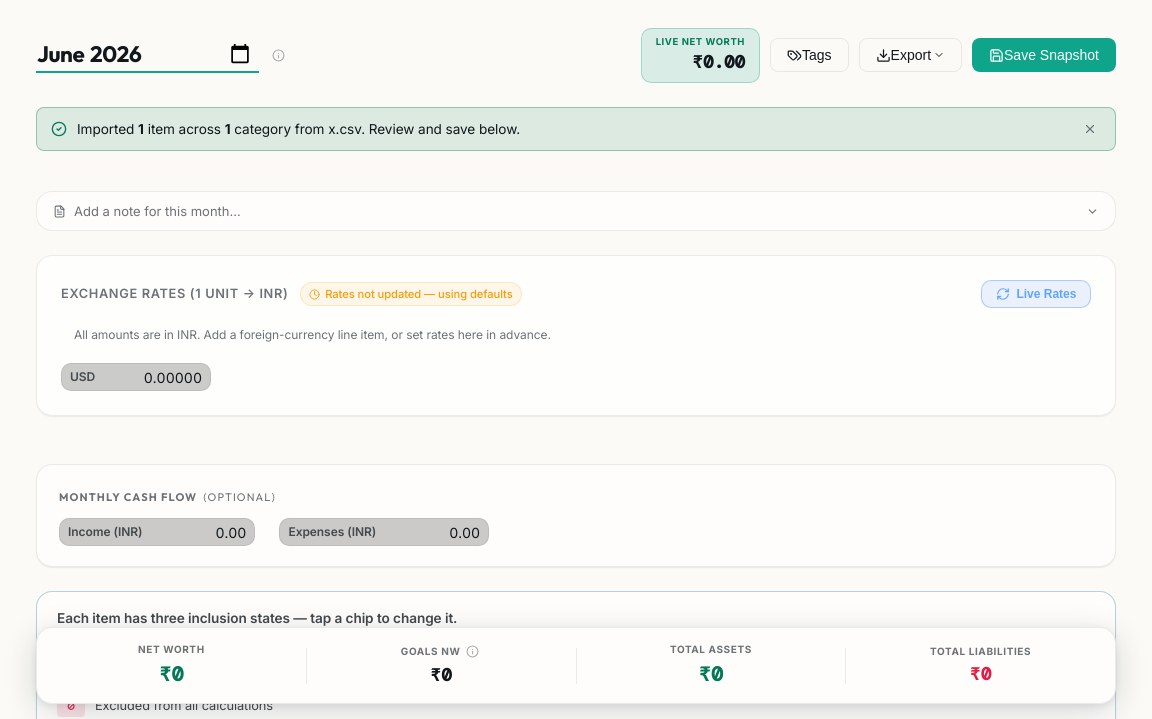
SnapshotEditor — import summary banner › dismisses the banner
Click the button named "Dismiss import summary": (1090, 129) [1079,118,1101,140]
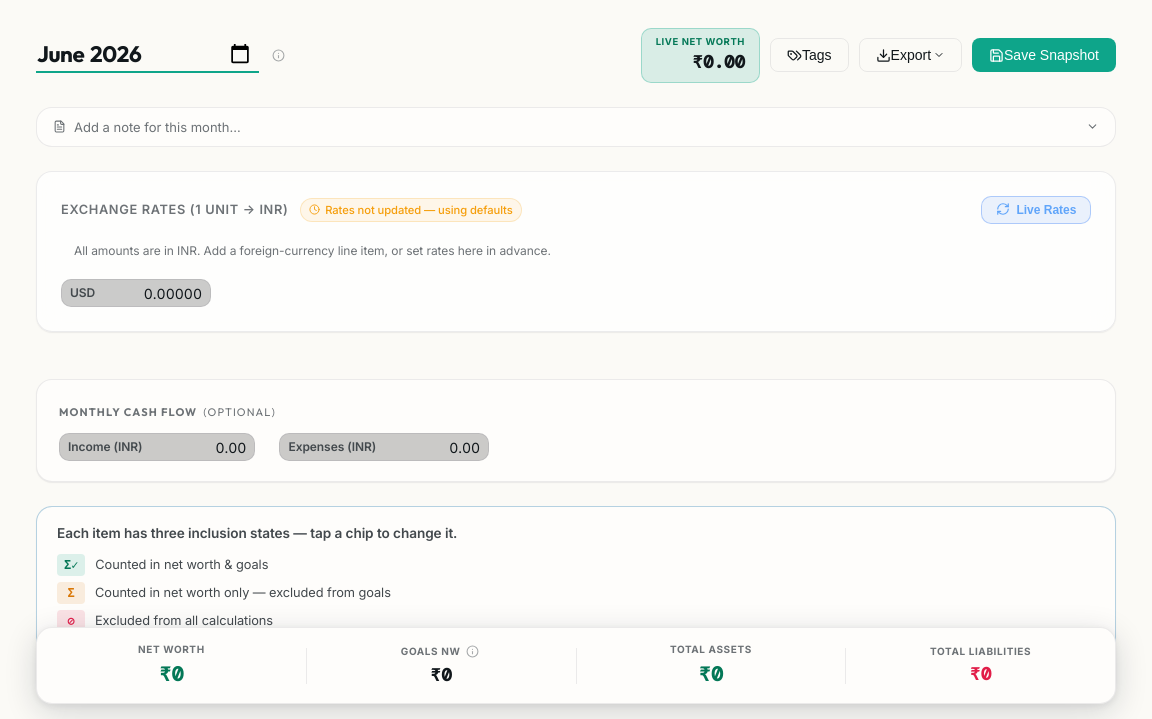
Now the message "Imported 1 item across 1 category from x.csv. Review and save below." is gone
